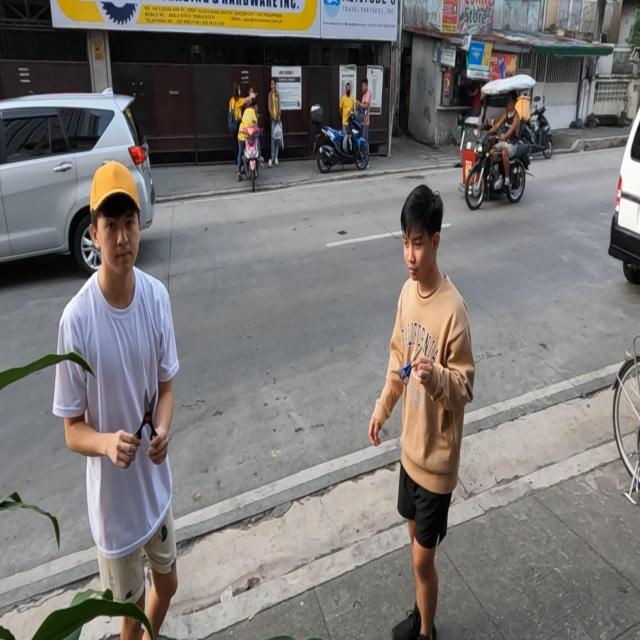scissor: (128, 386, 159, 450), (399, 346, 423, 388)
